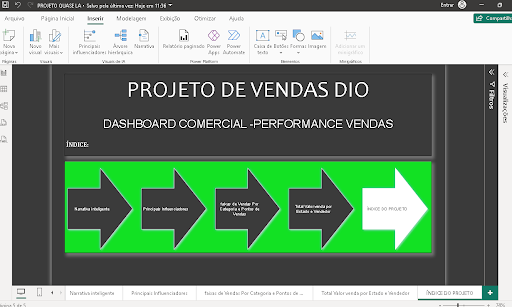

What the dashboard file says about the page in this screenshot:
{"tool":"powerbi","page":{"name":"ÍNDICE DO PROJETO","canvas":[1280,720],"ordinal":0},"visuals":[{"type":"pageNavigator","box":[42,315.3,1195,297.7],"z":0},{"type":"textbox","box":[42,31.1,1195,266.6],"z":1000}]}

Visuals, with their boxes on the page's 1280x720 design canvas (x1, y1, x2, y2). These are canvas units, not pixel positions in the 512x307 screenshot, which may show the page scaled, cropped or inside an application window:
pageNavigator: Rect(42, 315, 1237, 613)
textbox: Rect(42, 31, 1237, 298)
